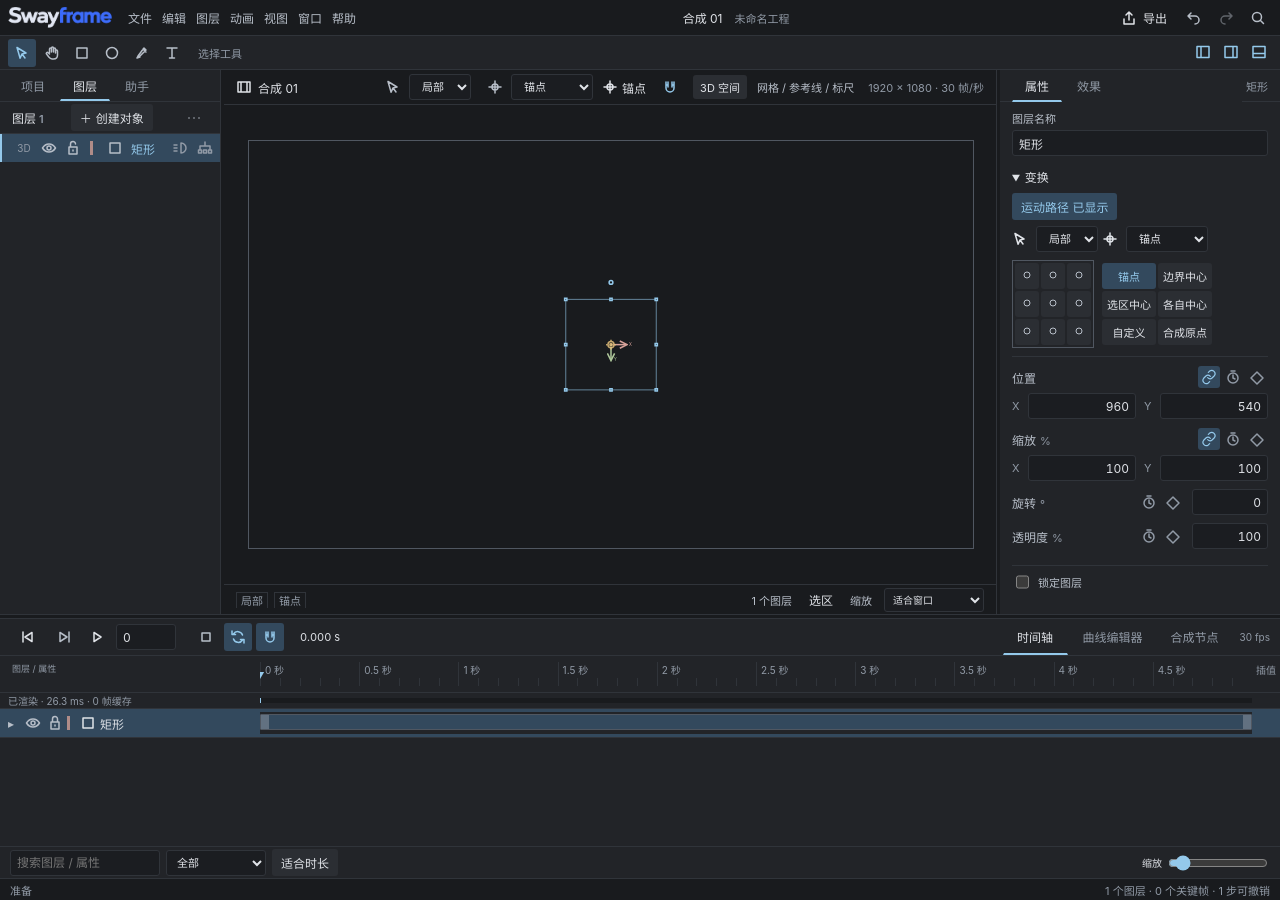
Test: 工具快捷键遵循画布/时间轴/文字焦点，并支持命令搜索
Click the button with class "layer-disclosure" at (11, 723), box [0,711,22,735]
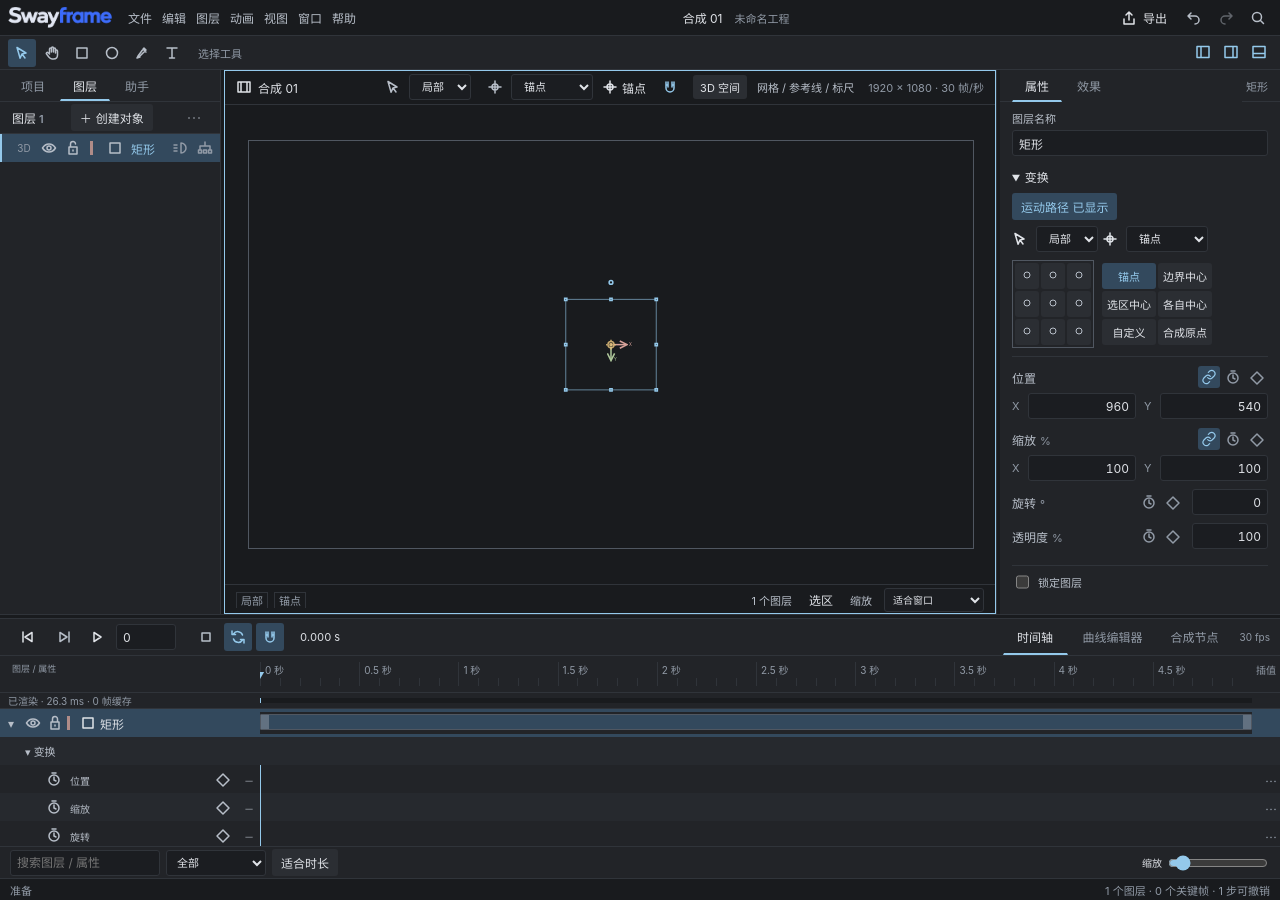
Press r in the element named "画布区域", box [224,70,996,614]
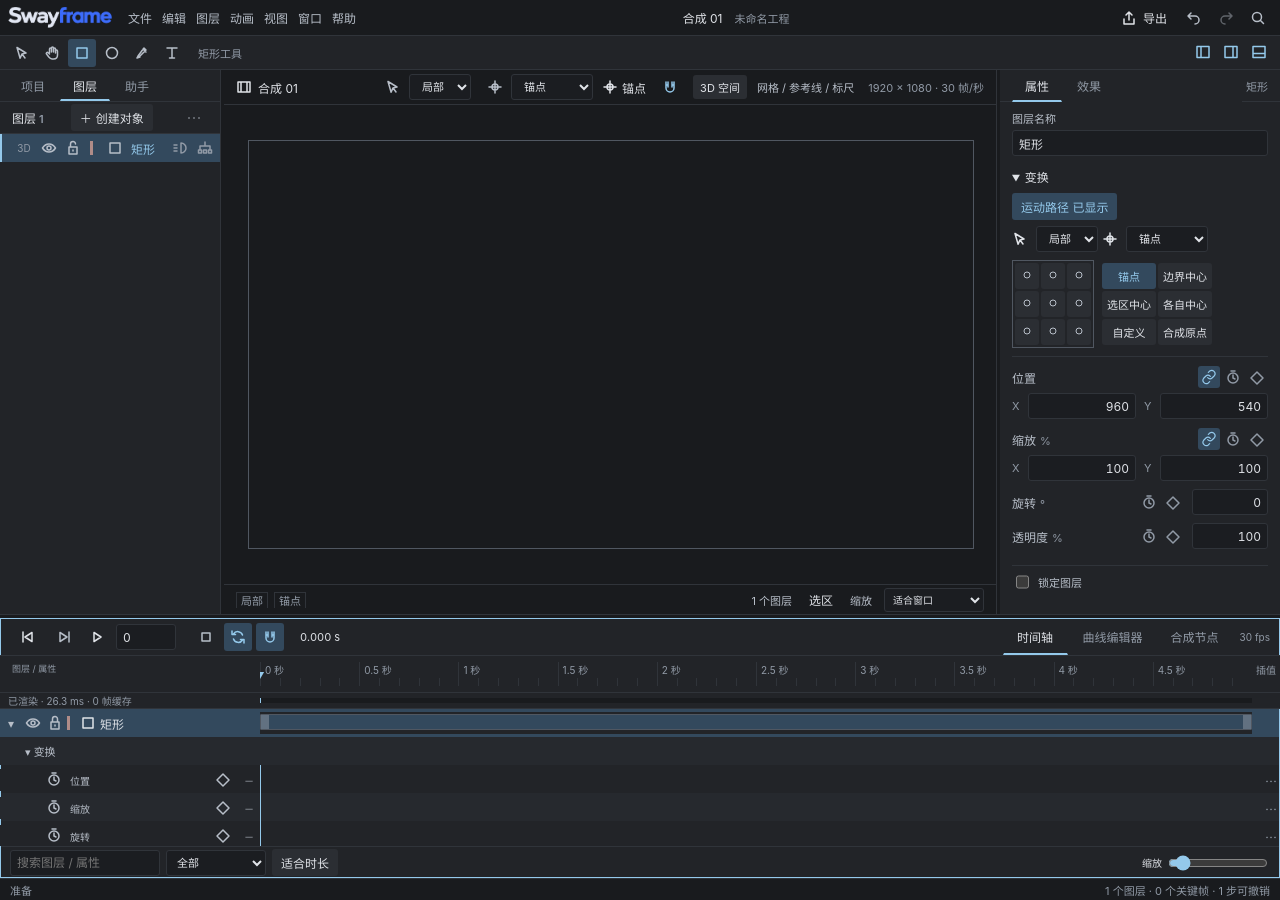
Expected: the button named "矩形工具" is pressed, [68,38,96,66]
Press p in the element "时间轴", box [0,618,1279,878]
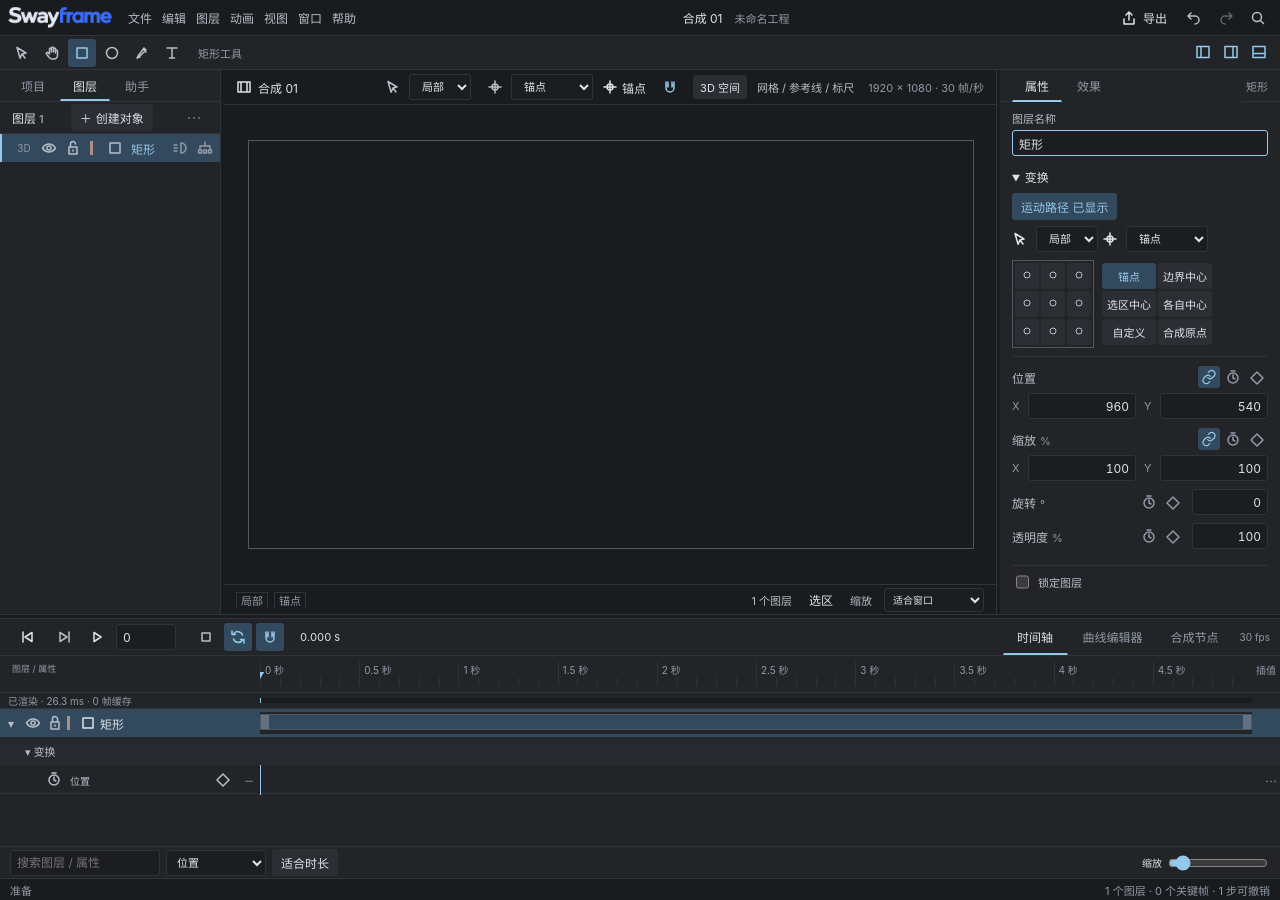
Expected: the dropdown named "时间轴属性筛选" shows "位置", [166,850,266,876]
Press v in the field labelled "图层名称", box [1012,130,1268,156]
Expected: the button named "矩形工具" is pressed, [68,38,96,66]
Press k in the field labelled "图层名称", box [1012,130,1268,156]
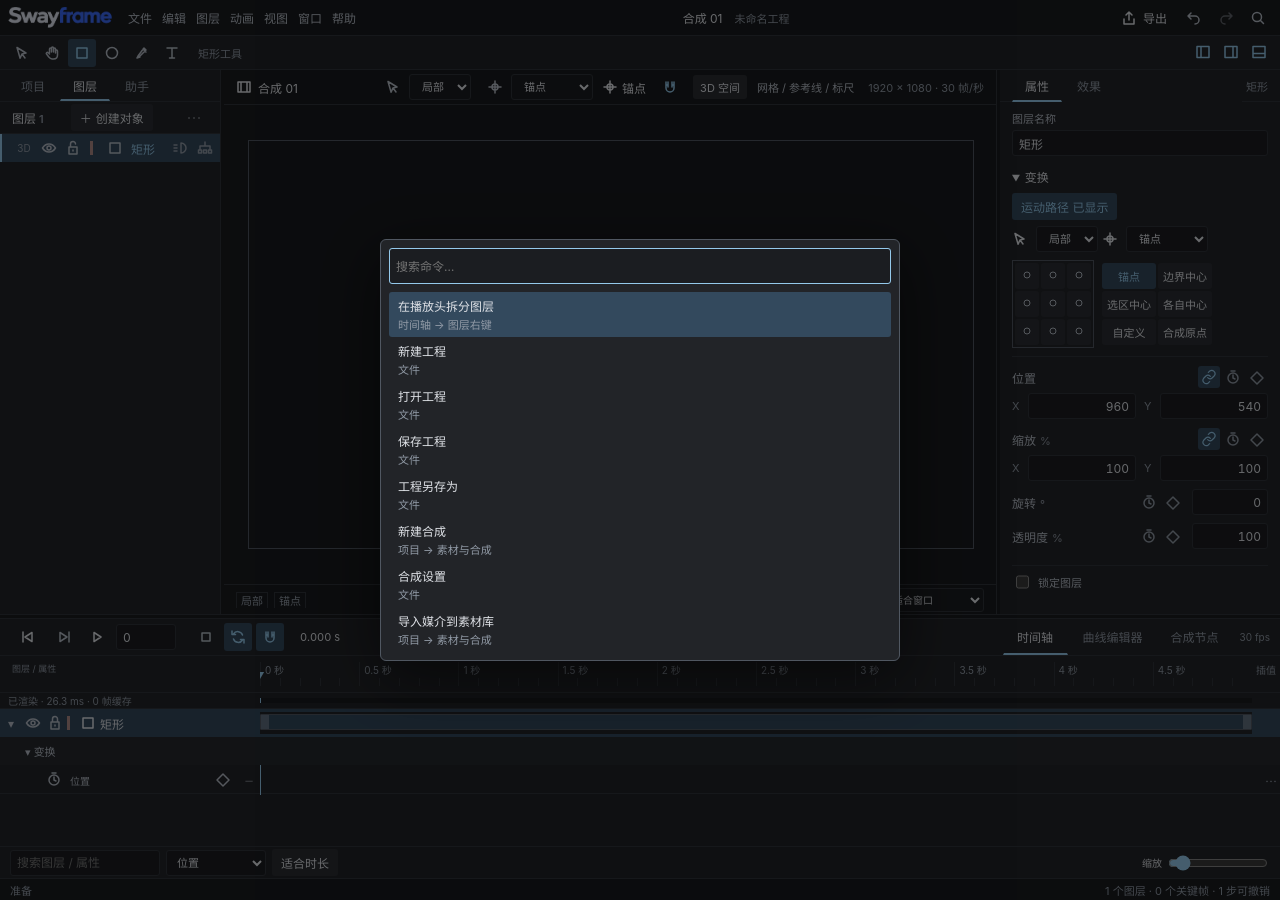
Expected: the dialog named "命令搜索" is shown, [380,239,900,661]
Type "blur" into the field labelled "搜索命令" at (640, 266), box [389,248,891,284]
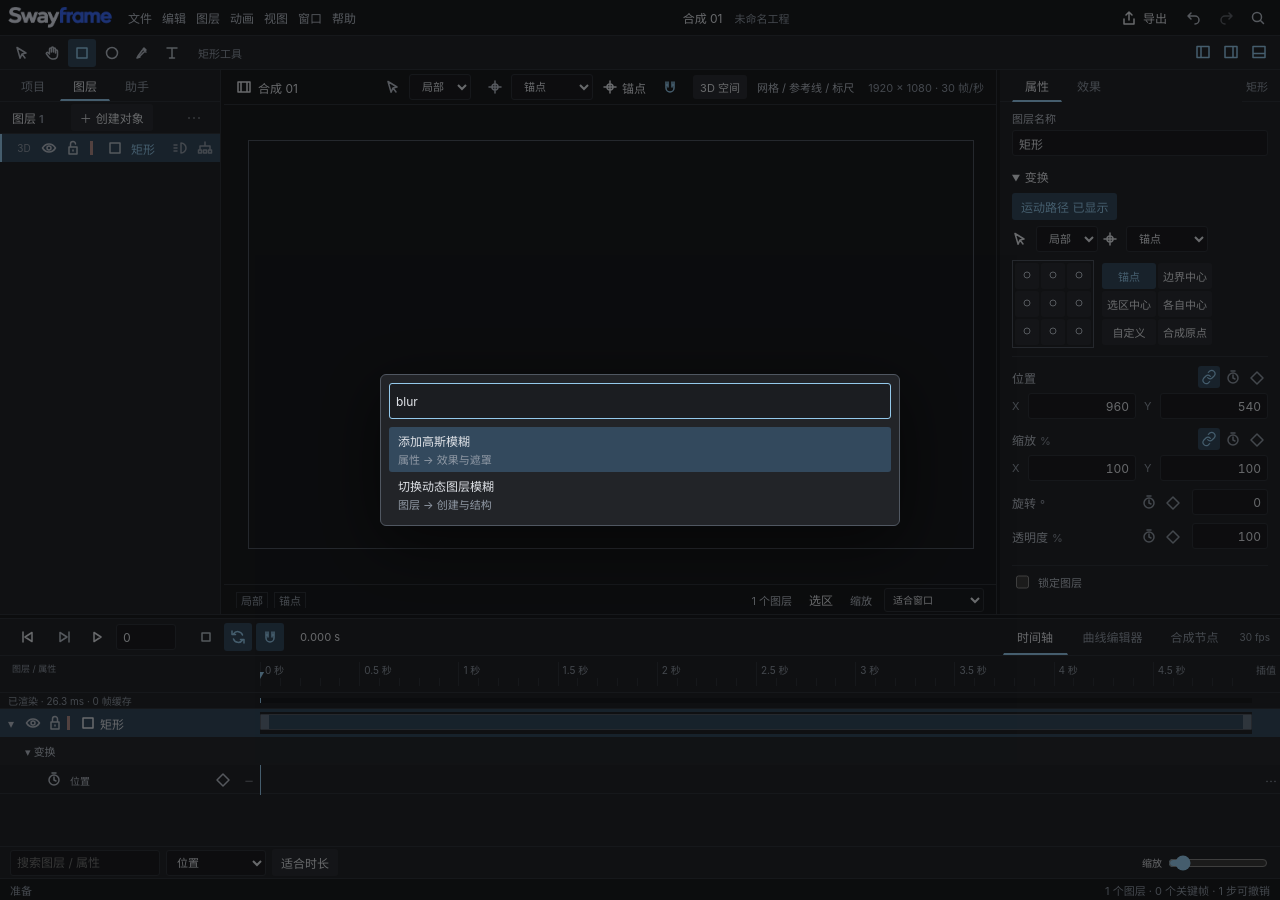
Press Enter in the field named "搜索命令", box [389,383,891,419]
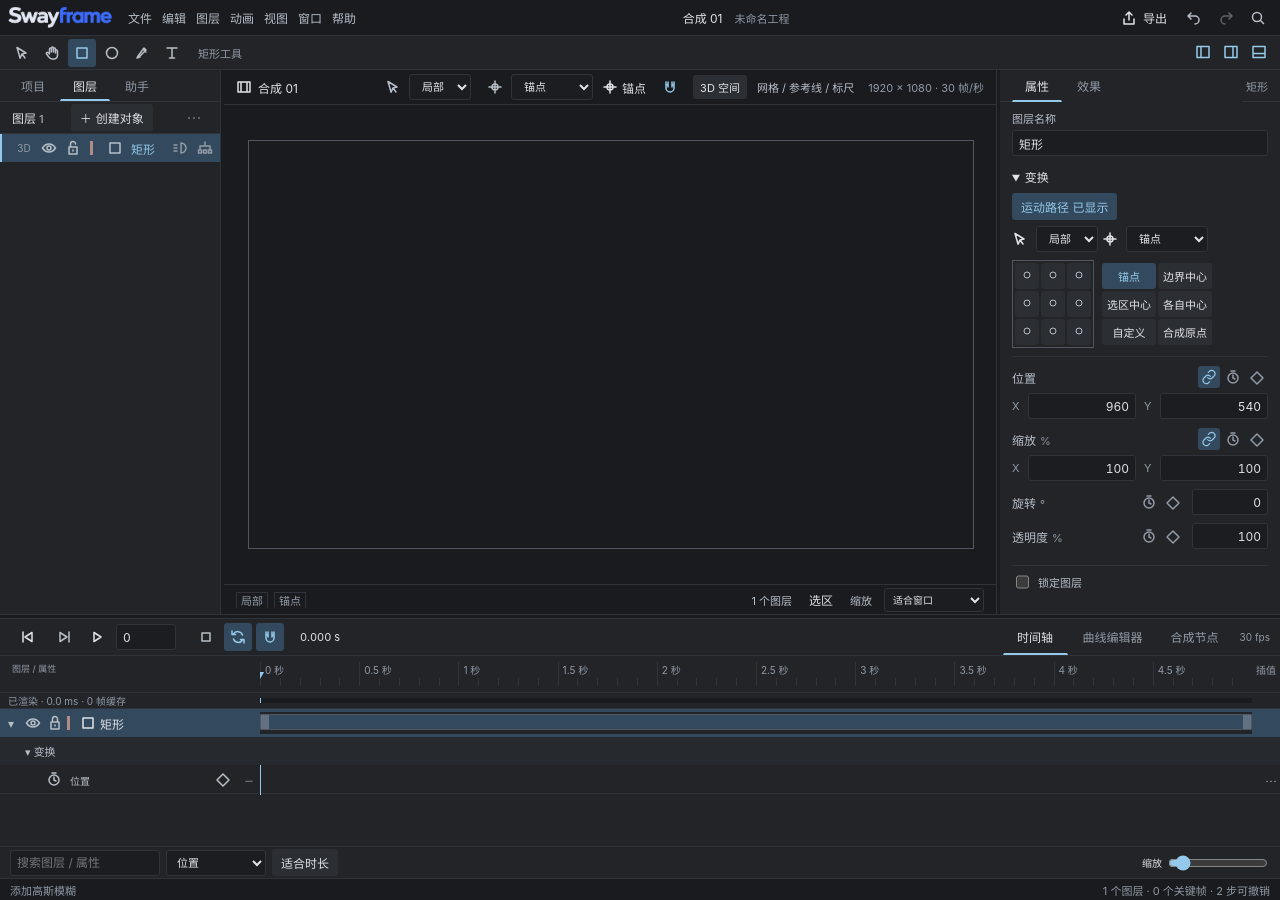
Expected: the dialog "命令搜索" is gone
